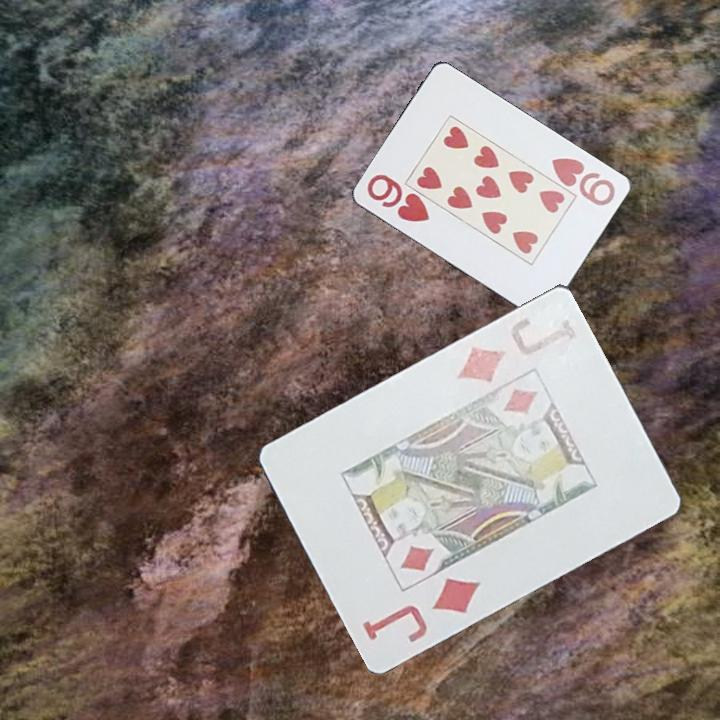9h: (548, 154, 619, 209), (364, 170, 435, 225)
Jd: (454, 309, 580, 385), (358, 573, 484, 645)
